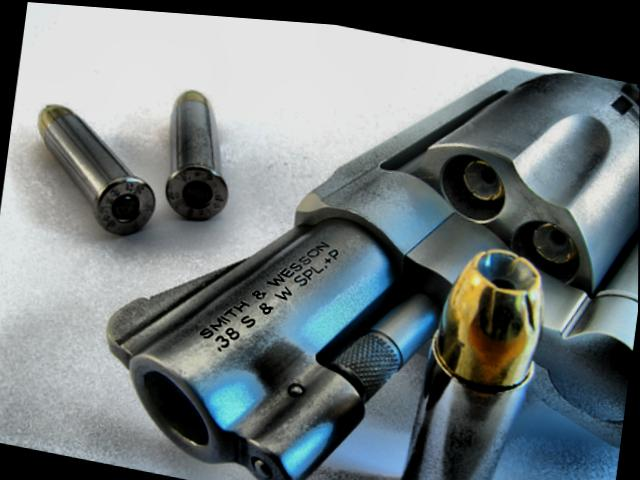pistol: (88, 5, 640, 480)
